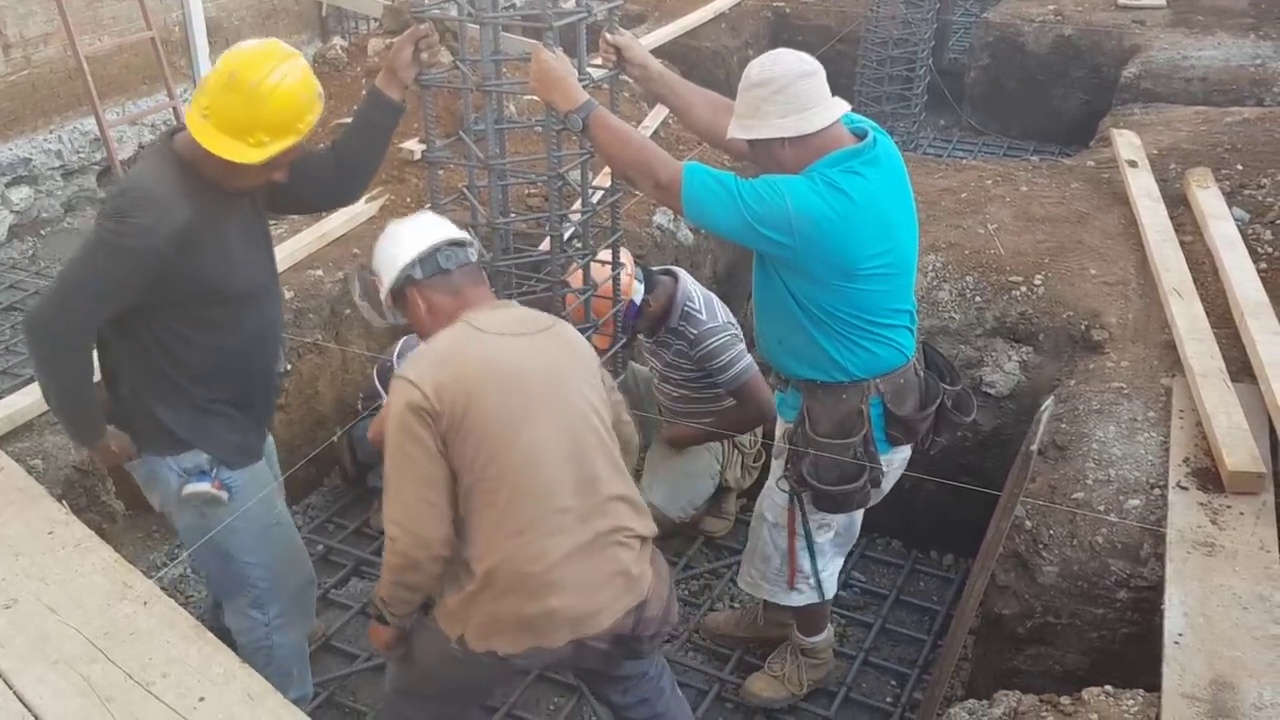helmet: (181, 29, 325, 162), (371, 210, 480, 314), (568, 240, 646, 357)
helmet-off: (727, 48, 860, 178)
helmet-on: (158, 29, 331, 197), (370, 204, 500, 343), (567, 244, 684, 355)
person: (20, 17, 437, 719), (533, 23, 924, 712), (360, 201, 688, 718), (565, 234, 764, 544)
